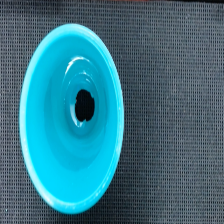hole: (74, 88, 94, 121)
